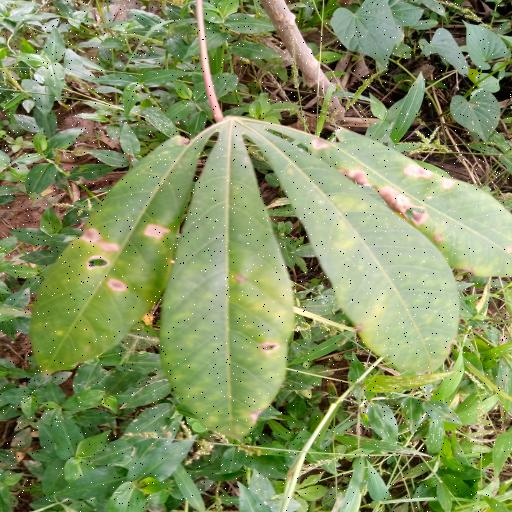Cassava_Mosaic: (2, 108, 512, 443)
